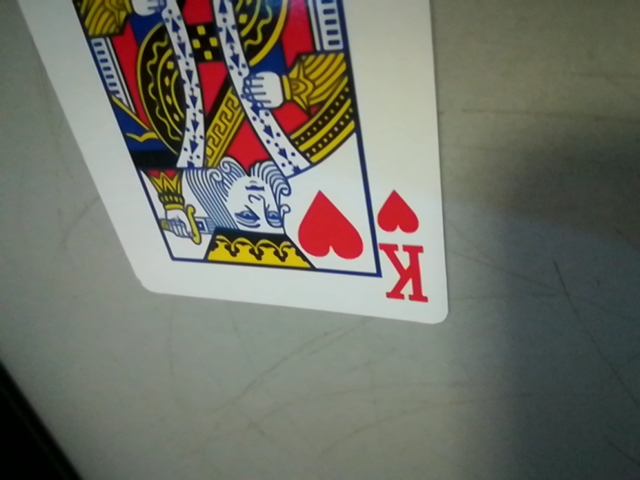hx k: (368, 187, 442, 312)
